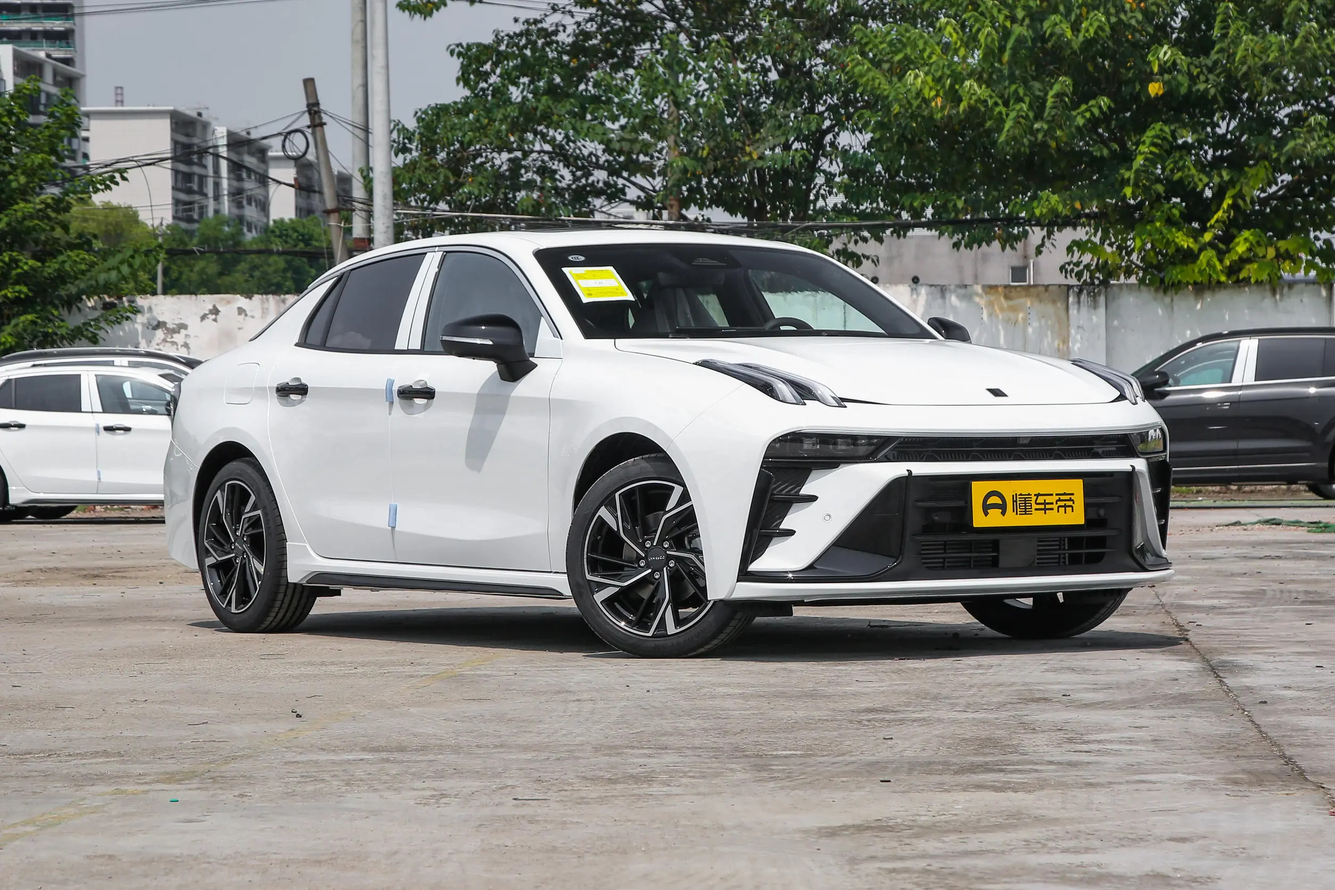LINK&CO: (986, 389, 1008, 397)
